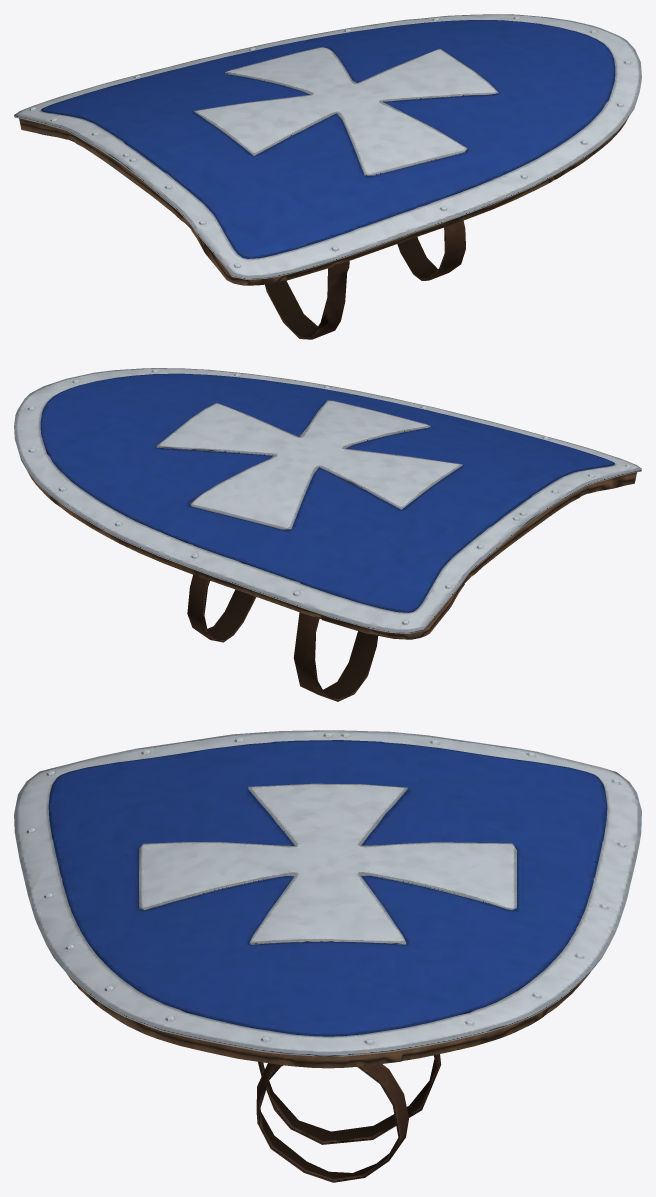
File: shield_plate.glb
3 renders of one model, top to bottom at view 1: azimuth 30°, elevation 25°; view 2: azimuth 150°, elevation 25°; view 3: azimuth 270°, elevation 25°, orthographic. The views are drawn at different scales.
Visible parts, largest first — view 1: shield; view 2: shield; view 3: shield.
Boxes of the visible parts, x1,y1,x2,y2 form: shield: (14, 14, 641, 339); shield: (14, 368, 641, 701); shield: (14, 730, 641, 1182).
Size of the model in its own units: 0.6122 by 0.2689 by 0.5004.
1 material, 1 textured.
